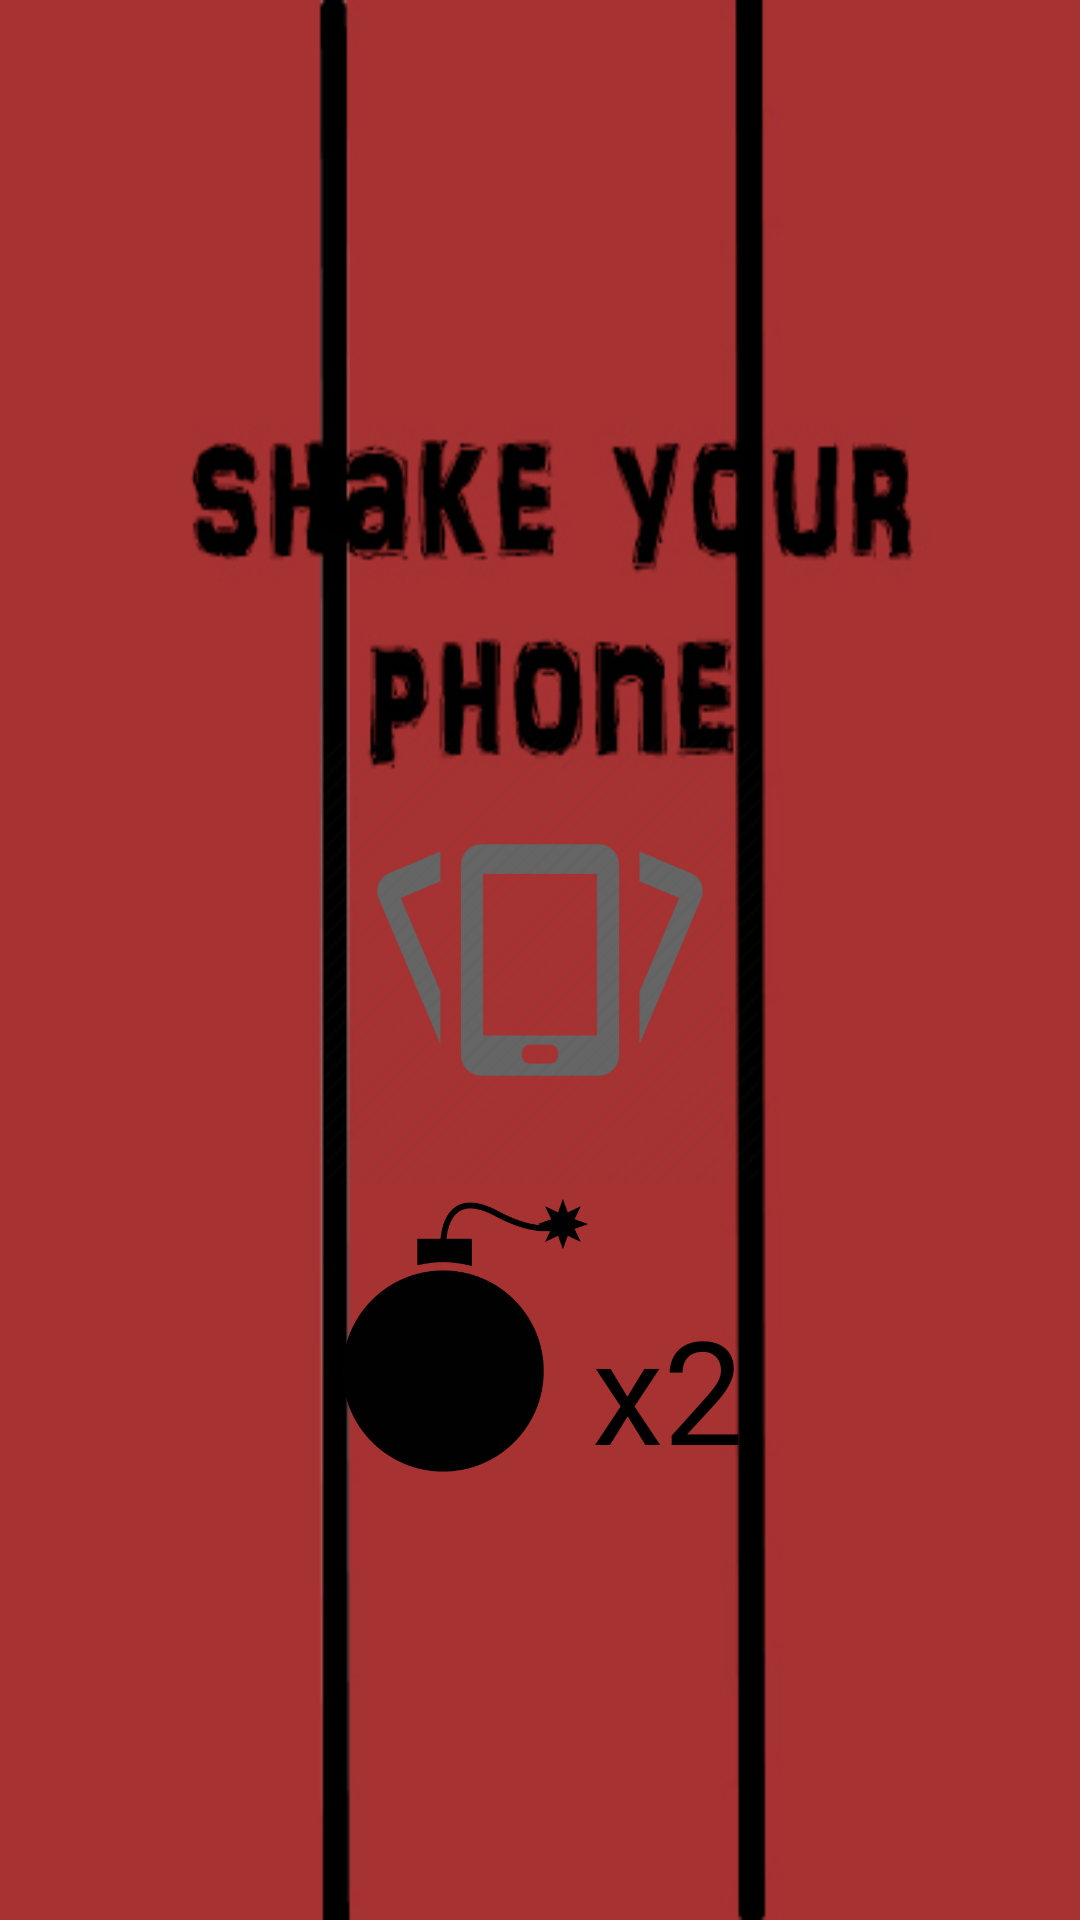

Screen size 1080 × 1920. Icon name, then its center in pixels as (x,y):
bomb: (468,1335)
